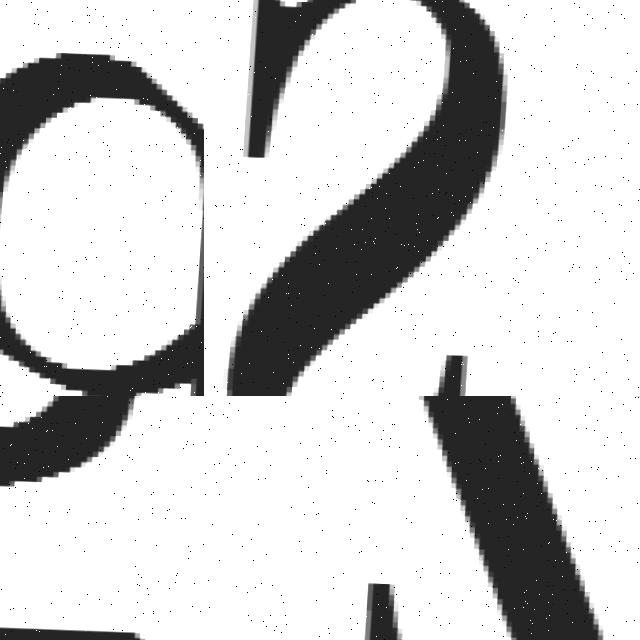5: (0, 396, 187, 640)
D: (0, 38, 204, 396)
S: (204, 0, 520, 396)
Z: (322, 396, 640, 640)
